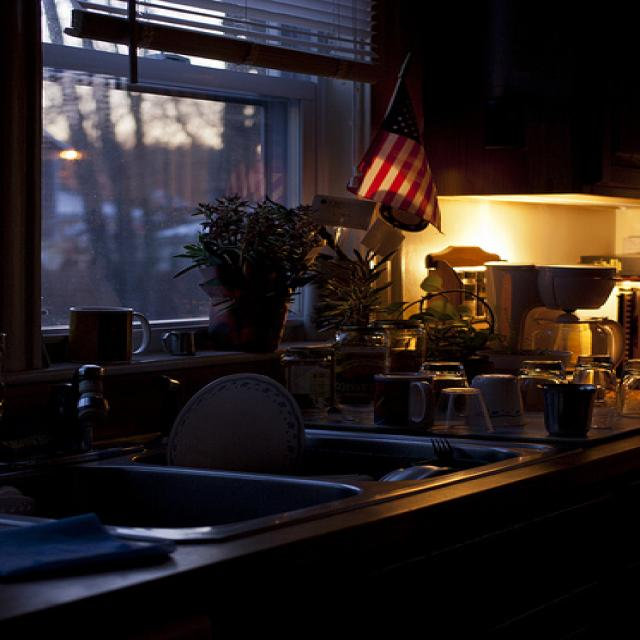Cup: (71, 280, 167, 368)
Table: (0, 360, 640, 640)
